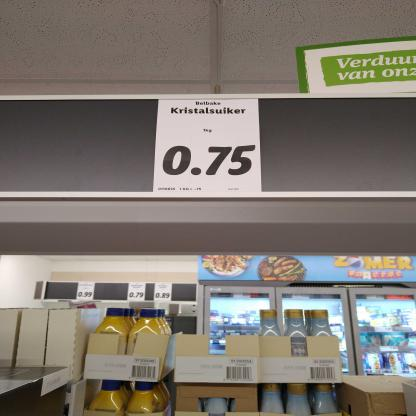prtg: (154, 100, 263, 193)
